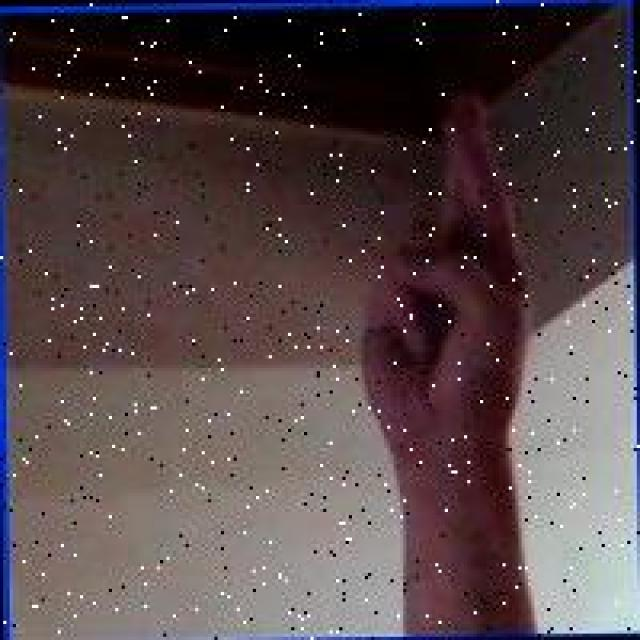R: (350, 80, 542, 470)
